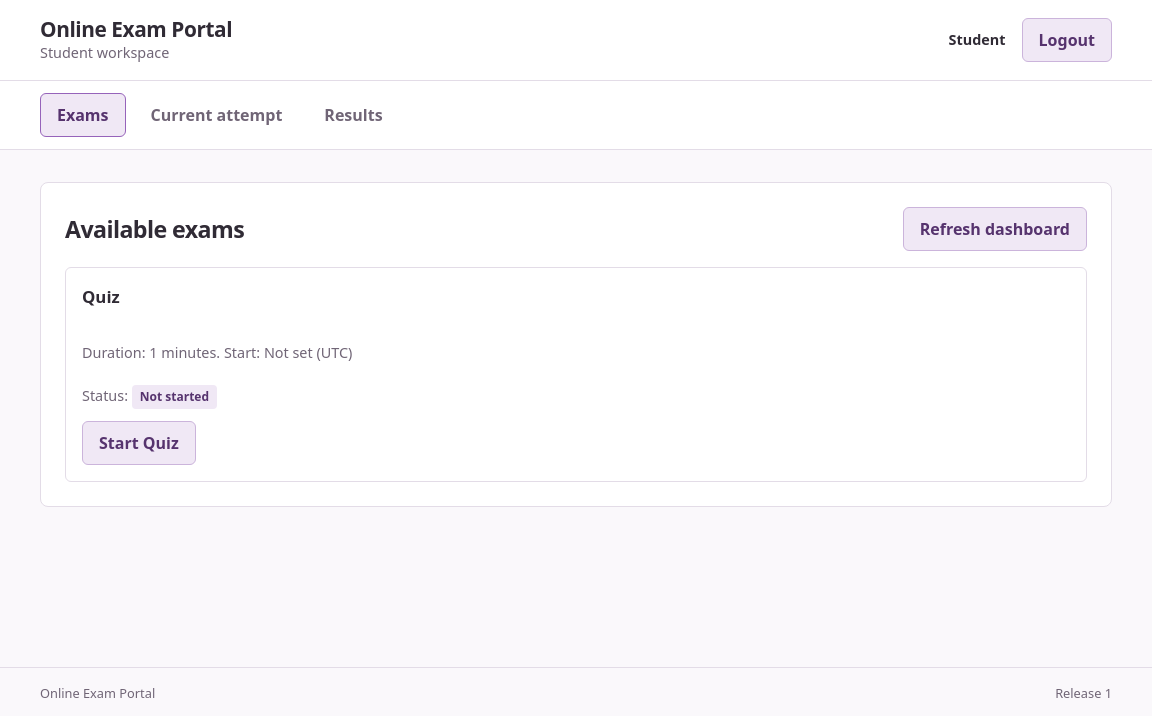
Test: Student acceptance regressions #38 #40 #46 #47 › AC47-EXPIRY: a hung pending save cannot delay finalization beyond the persisted deadline
Click the button "Start Quiz".
click(139, 443)  # box [82,421,196,465]
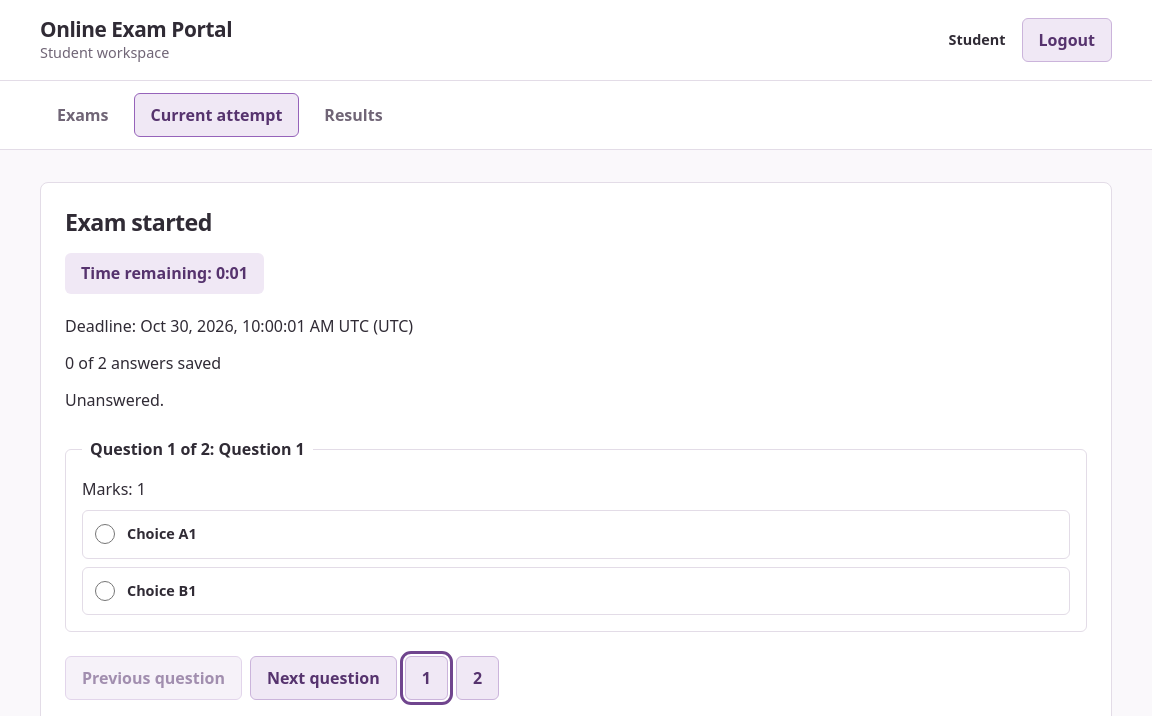
Click the radio button labelled "Choice A1".
click(105, 534)  # box [95,524,115,544]
(page scrolled)
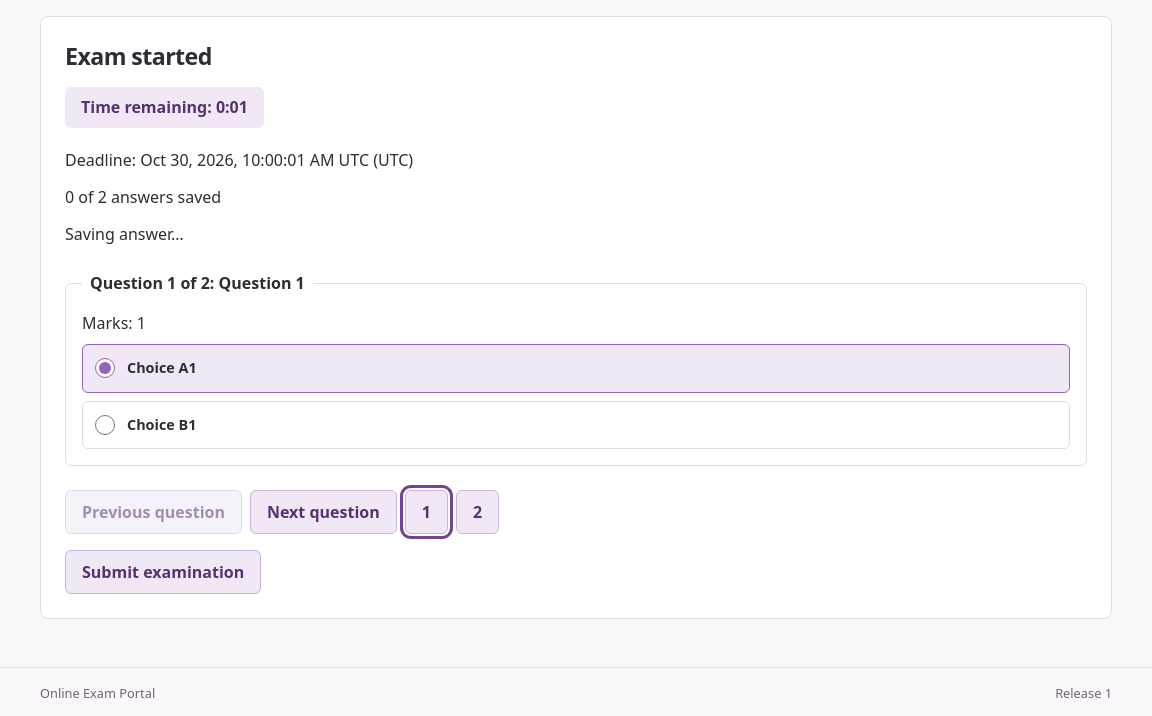
Click the button "Submit examination".
click(163, 572)  # box [65,550,261,594]
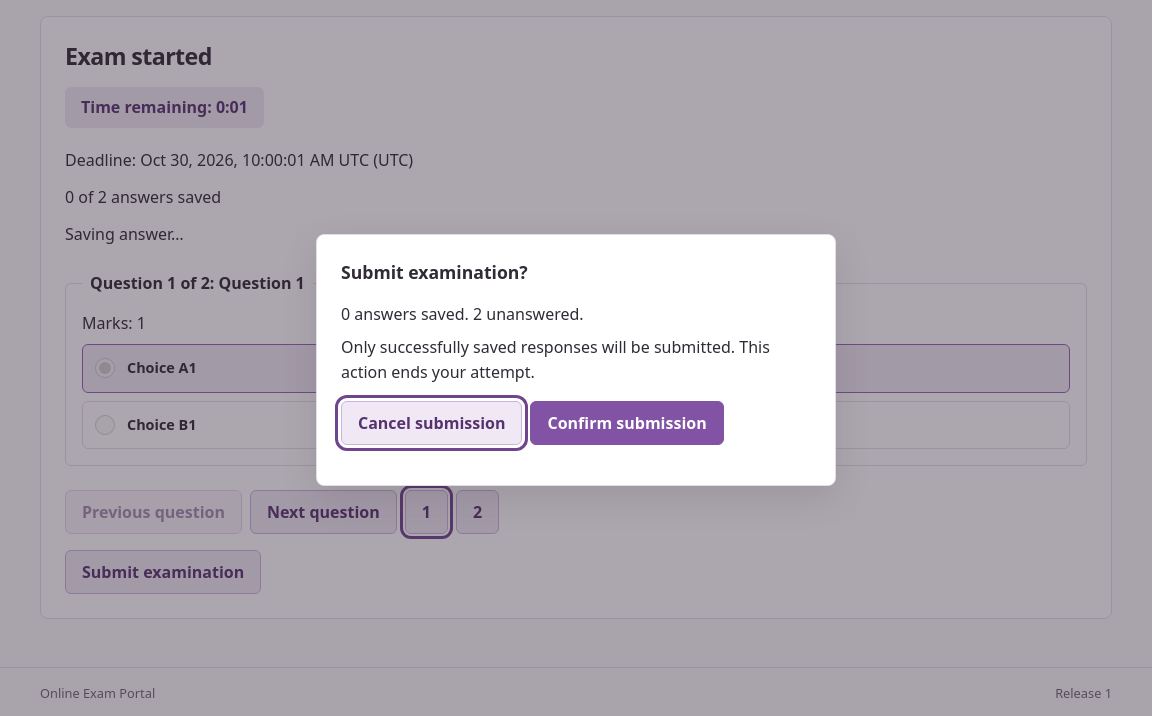
Click the button "Confirm submission".
click(627, 423)  # box [530,401,724,445]
Wait 1250 ms
(page scrolled)
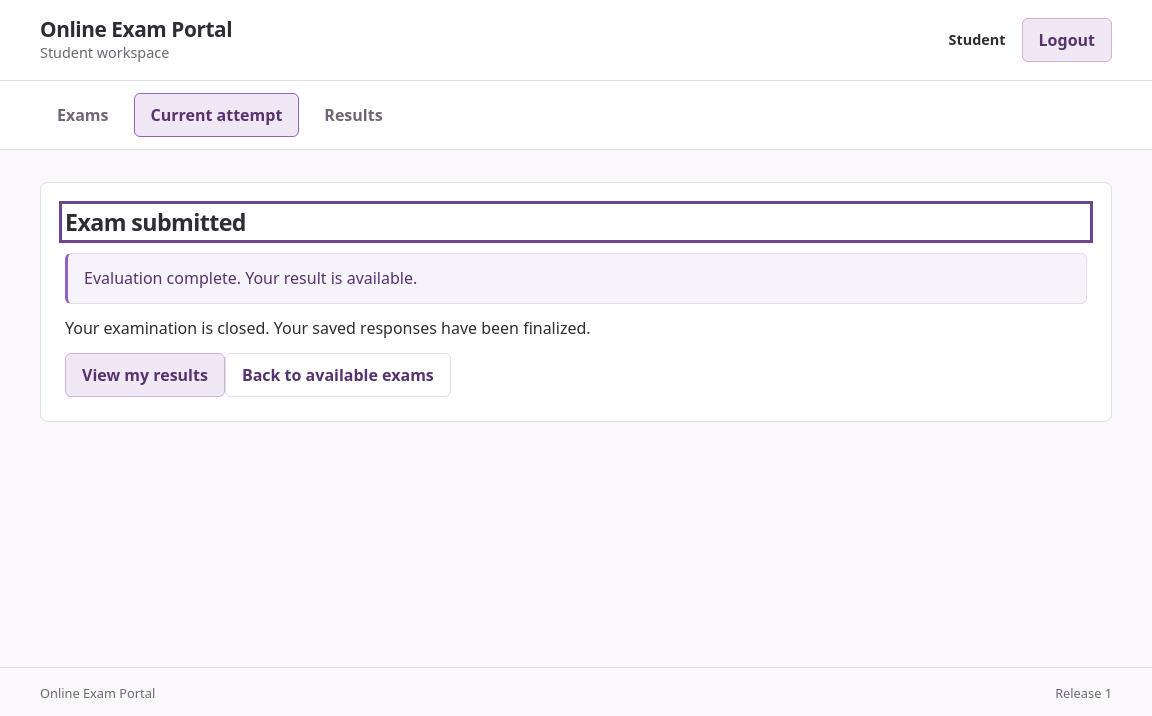
Now the heading "Exam submitted" is shown, box [65,206,246,238]
